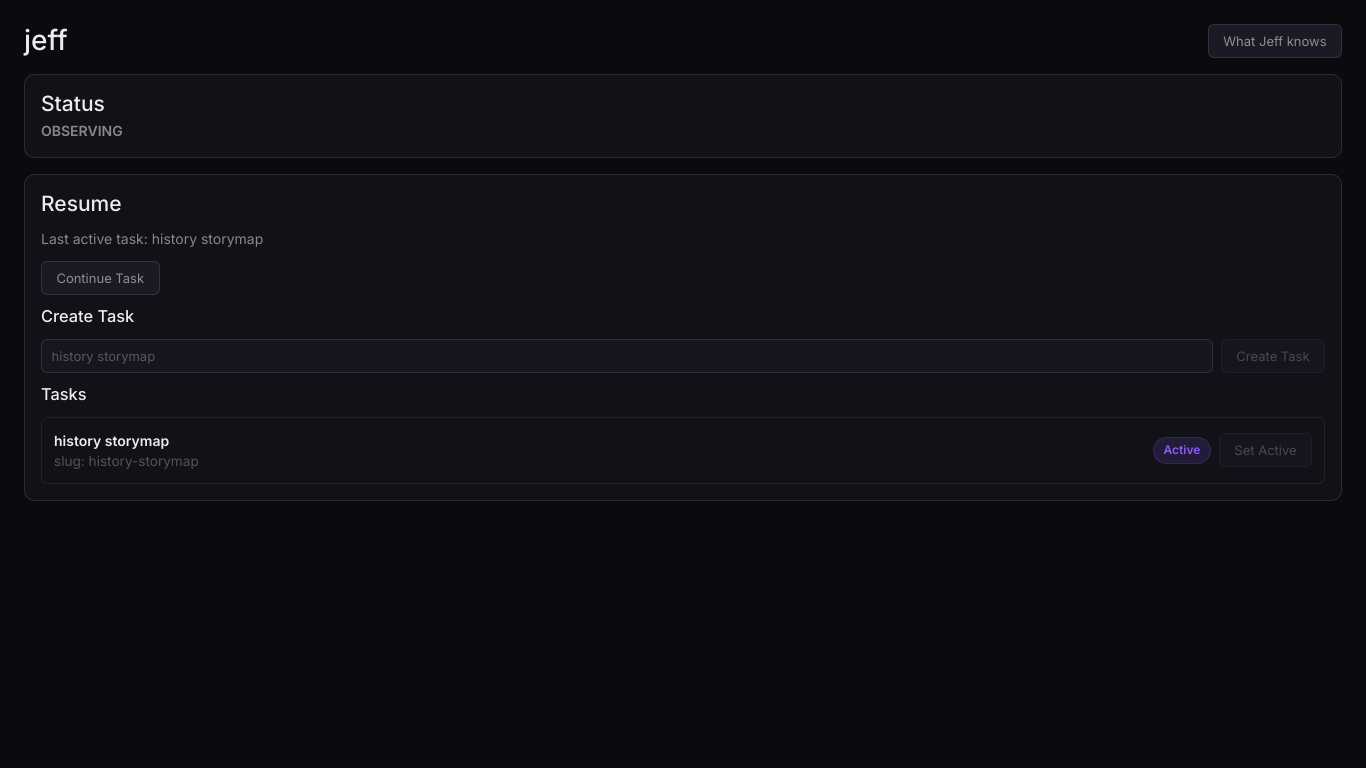
Test: App › creates agent jobs from the manual delegation form and leaves legacy cancel disabled without subtasks
This screenshot has width=1366, height=768.
Check: the element with test id "home-resume-screen" is shown, box x1=24 y1=174 x2=1342 y2=501
Click the button with test id "continue-task-button": x=100, y=278 x1=41 y1=261 x2=160 y2=295
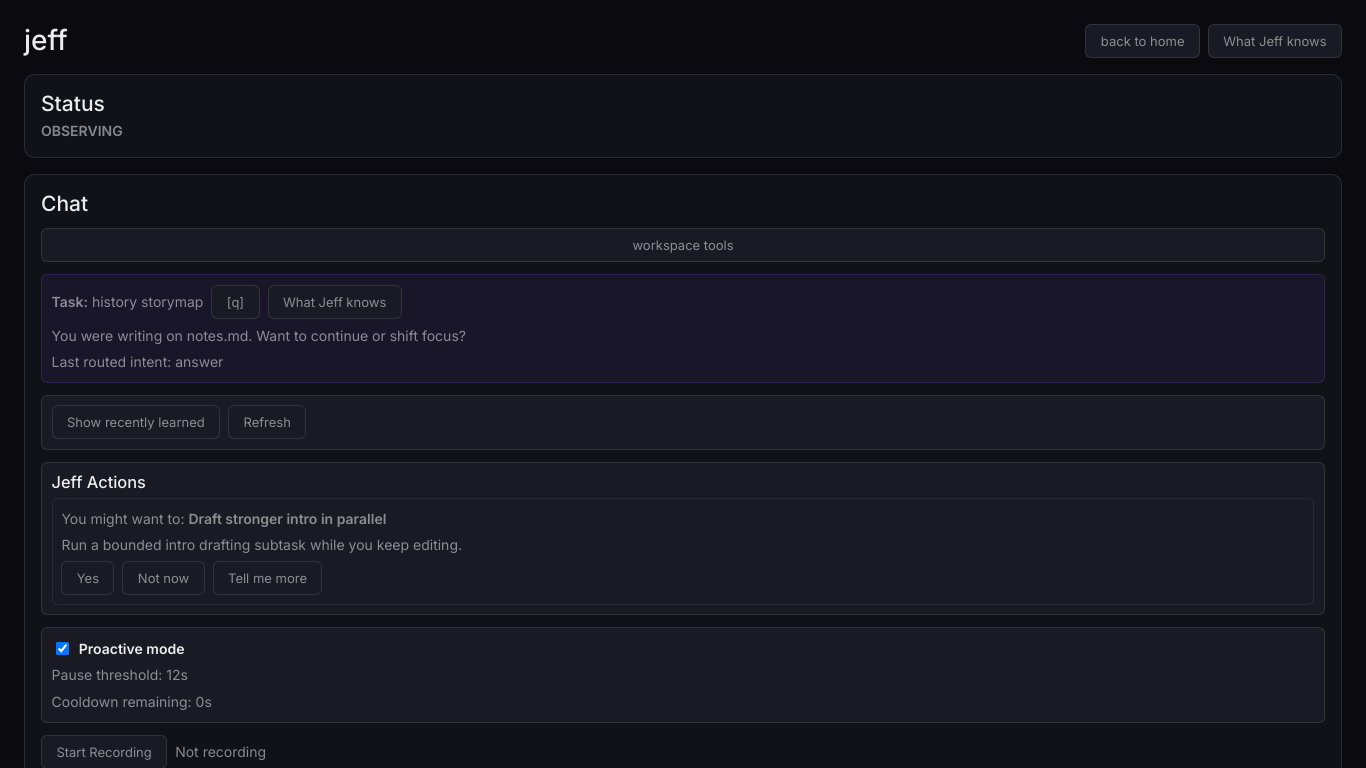
Click the button with test id "toggle-full-workspace": x=683, y=245 x1=41 y1=228 x2=1325 y2=262
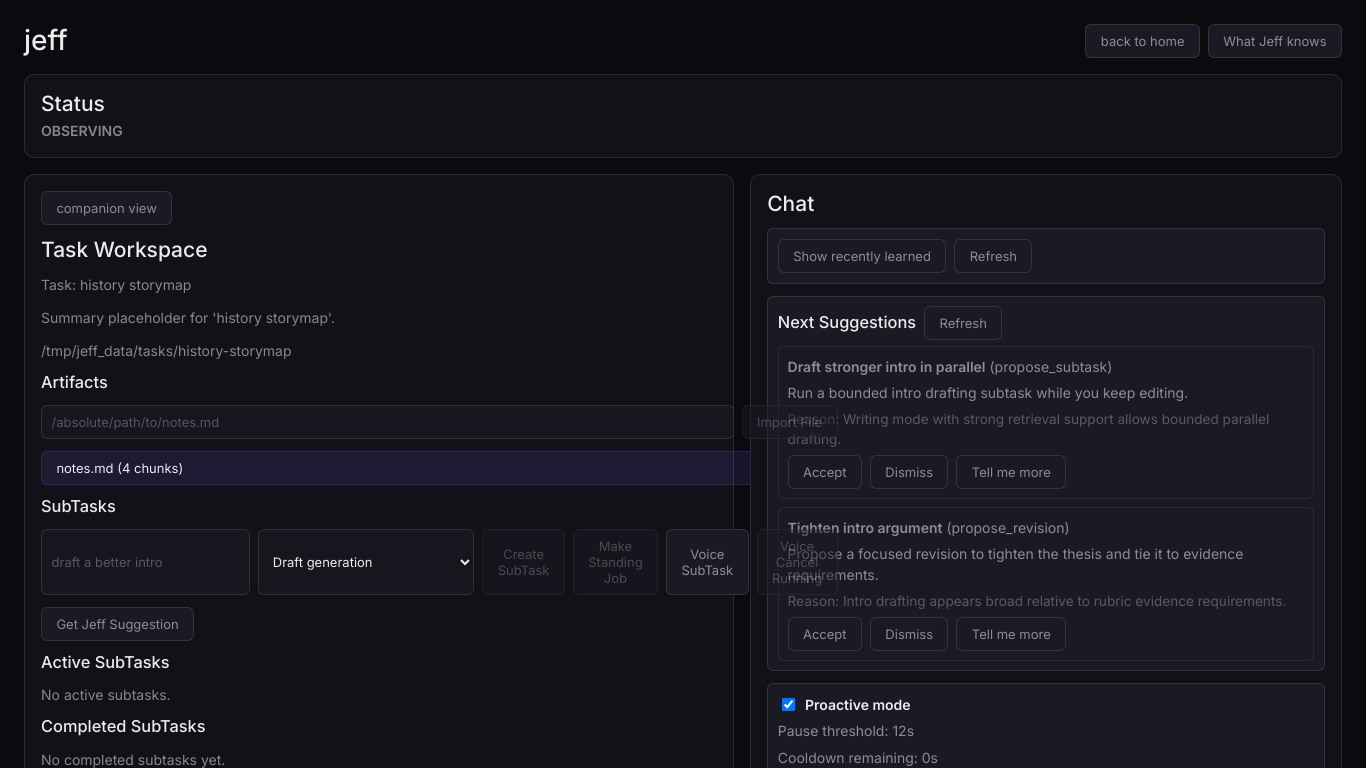
In the field with test id "subtask-instruction-input": x=146, y=562 x1=41 y1=529 x2=250 y2=595, type "expand this outline"
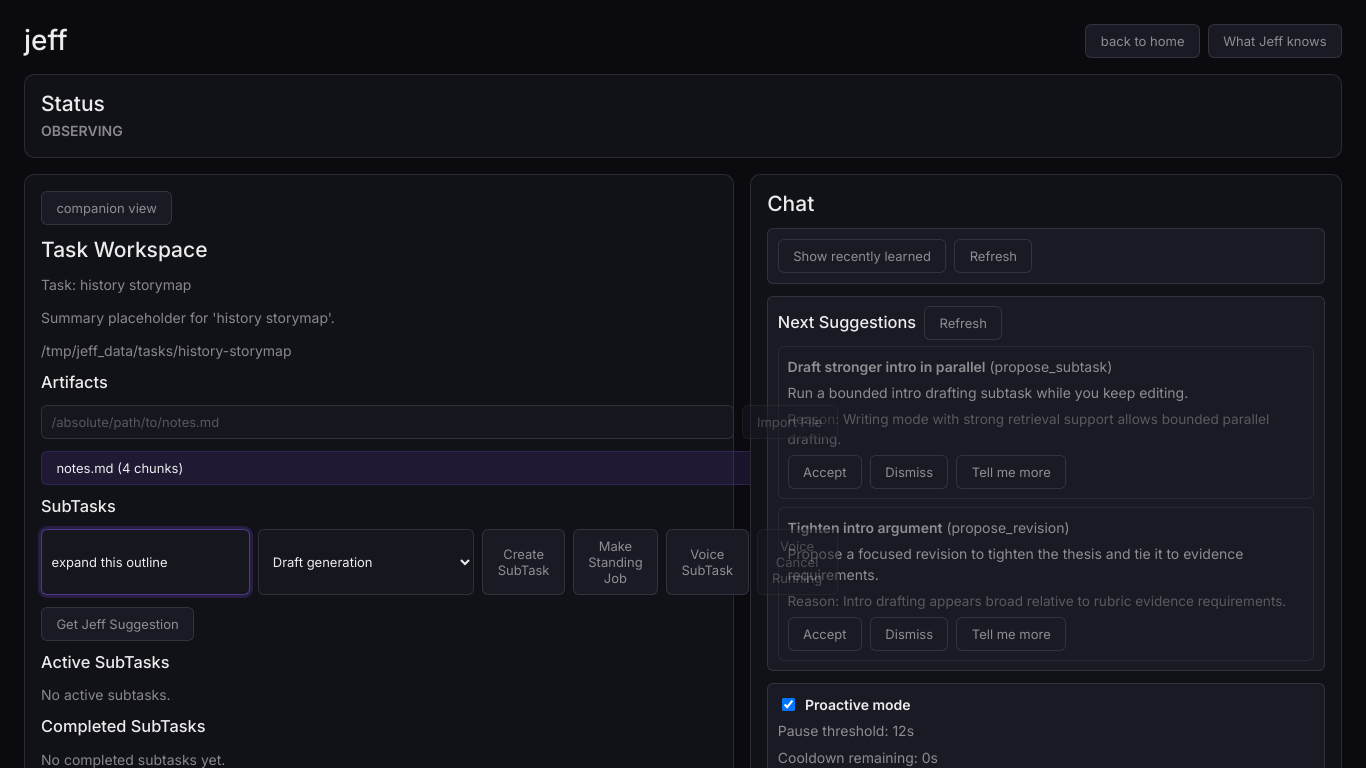
Click the button "Create SubTask": x=524, y=562 x1=482 y1=529 x2=565 y2=595
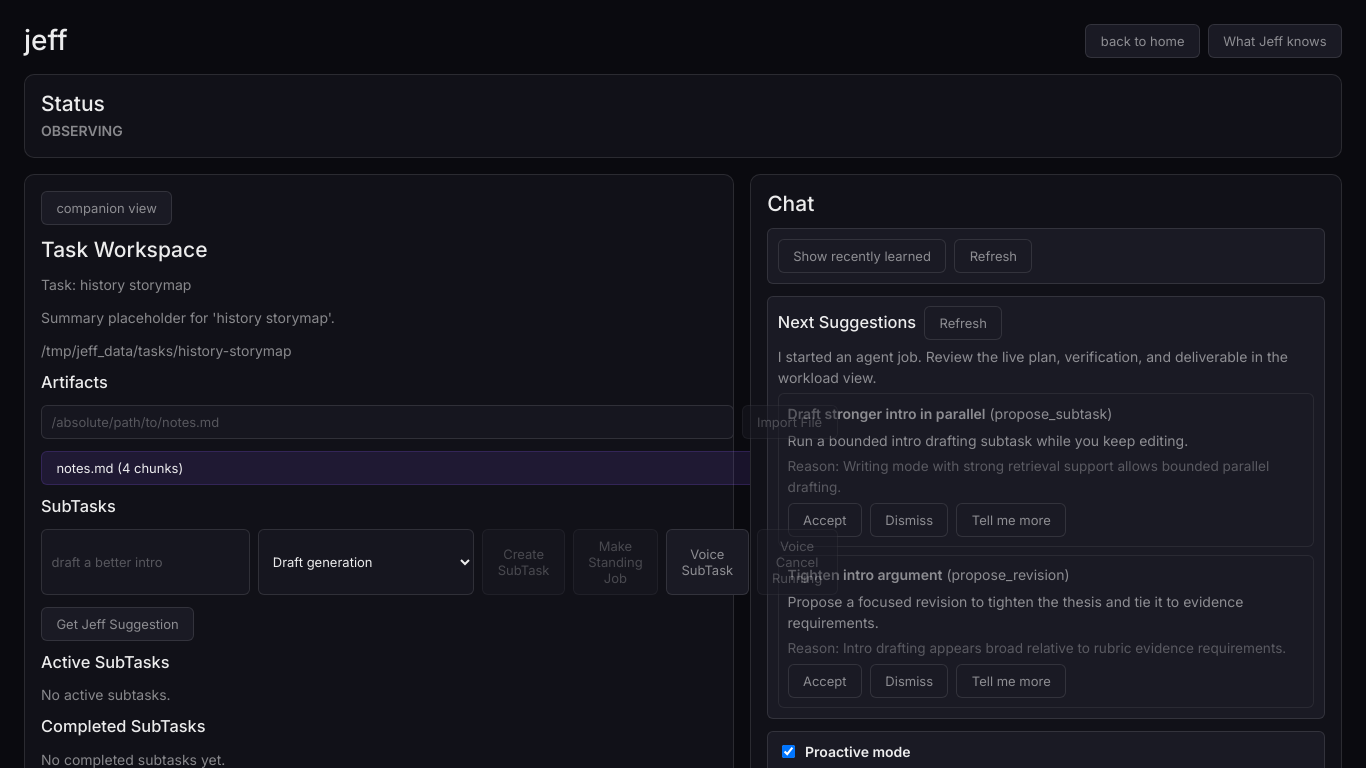
Check: the button with test id "voice-cancel-subtask-button" is disabled, box x1=756 y1=529 x2=838 y2=595
Check: the text with test id "suggestion-action-message" shows "agent job", box x1=778 y1=348 x2=1288 y2=386
